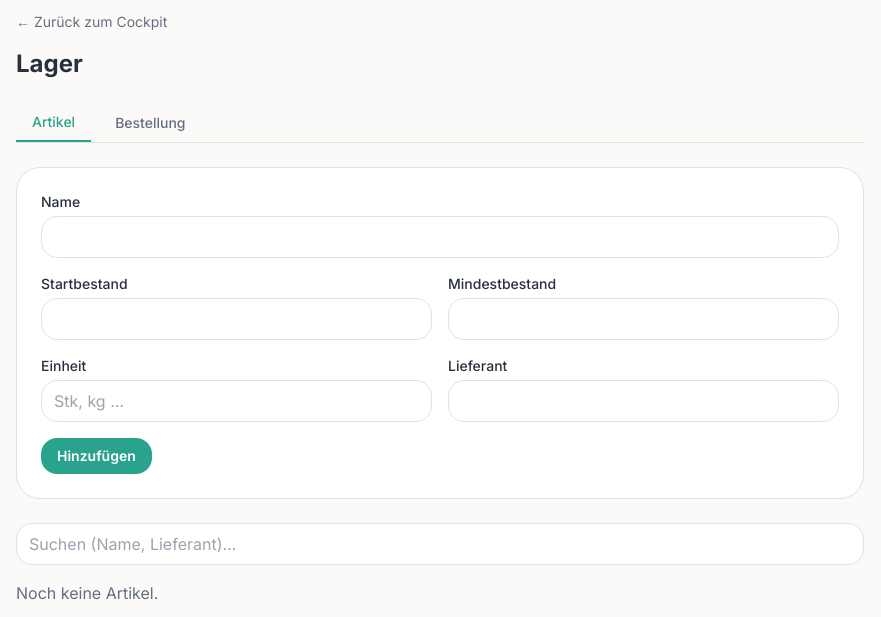
Test: InventoryModule › switches to the Bestellung tab (empty state with no low stock)
Click the tab "Bestellung": (150, 123) [99,104,202,142]
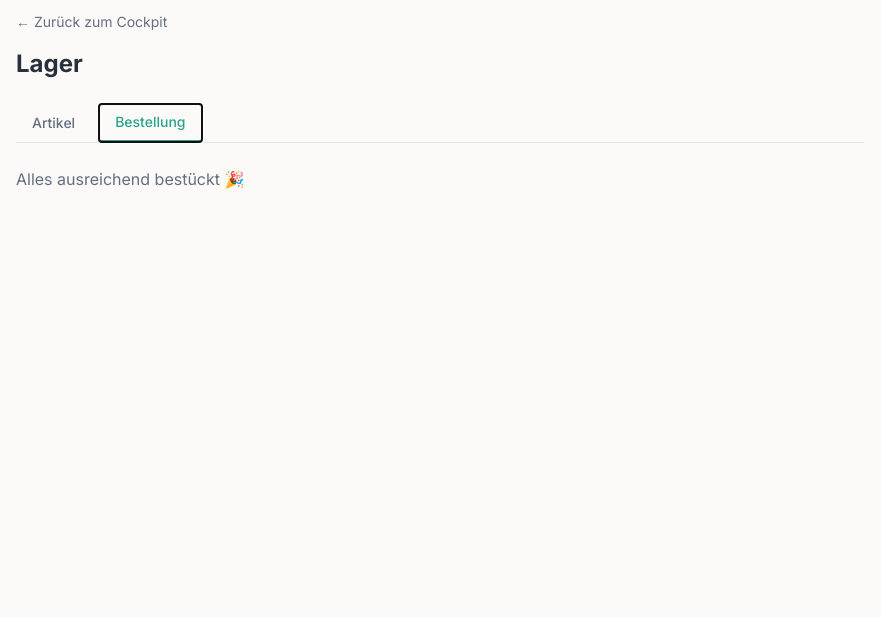
Now the text "Alles ausreichend bestückt 🎉" is shown, box [16,169,244,189]
